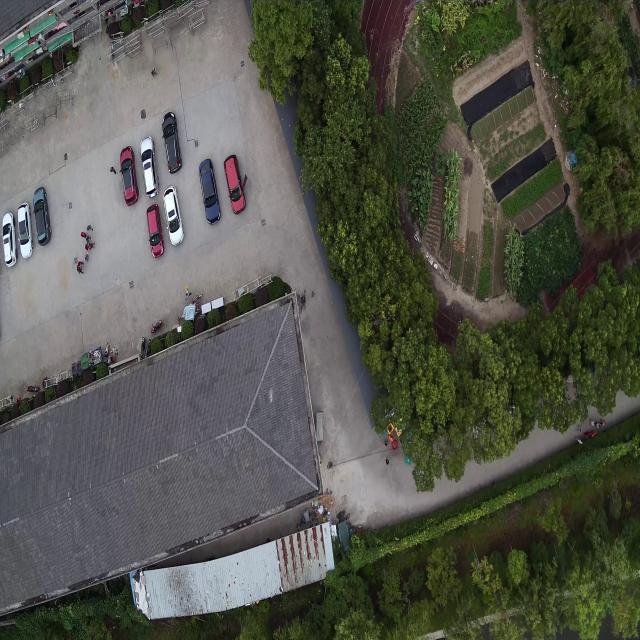UAV: (263, 385, 279, 406)
